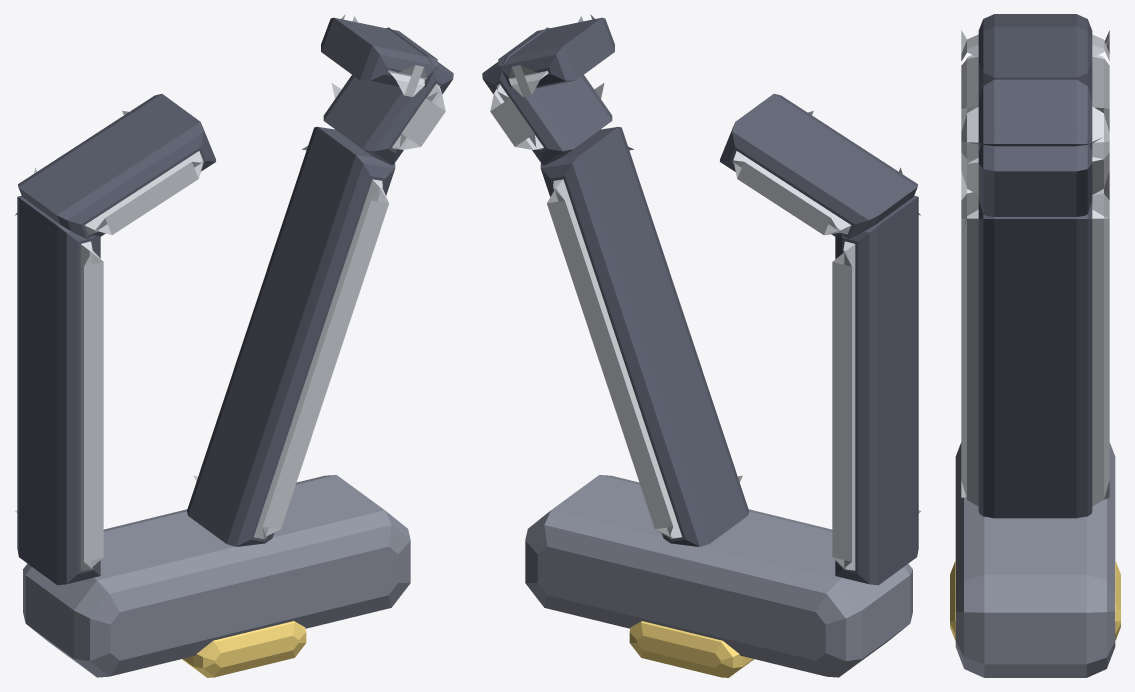
File: game-ui-icon-library-lockpick-set-697d11e0__19000.glb
3 renders of one model, left to right at view 1: azimuth 30°, elevation 25°; view 2: azimuth 150°, elevation 25°; view 3: azimuth 270°, elevation 25°, orthographic. The views are drawn at different scales.
Parts seen in each view (by area): view 1: lockpick-set; view 2: lockpick-set; view 3: lockpick-set.
Boxes of the visible parts, left/top/right/bottom form: lockpick-set: left=15, top=14, right=453, bottom=677; lockpick-set: left=482, top=14, right=920, bottom=677; lockpick-set: left=950, top=14, right=1120, bottom=677.
Bounding box in the file's own units: 0.6737 × 0.94 × 0.2365.
